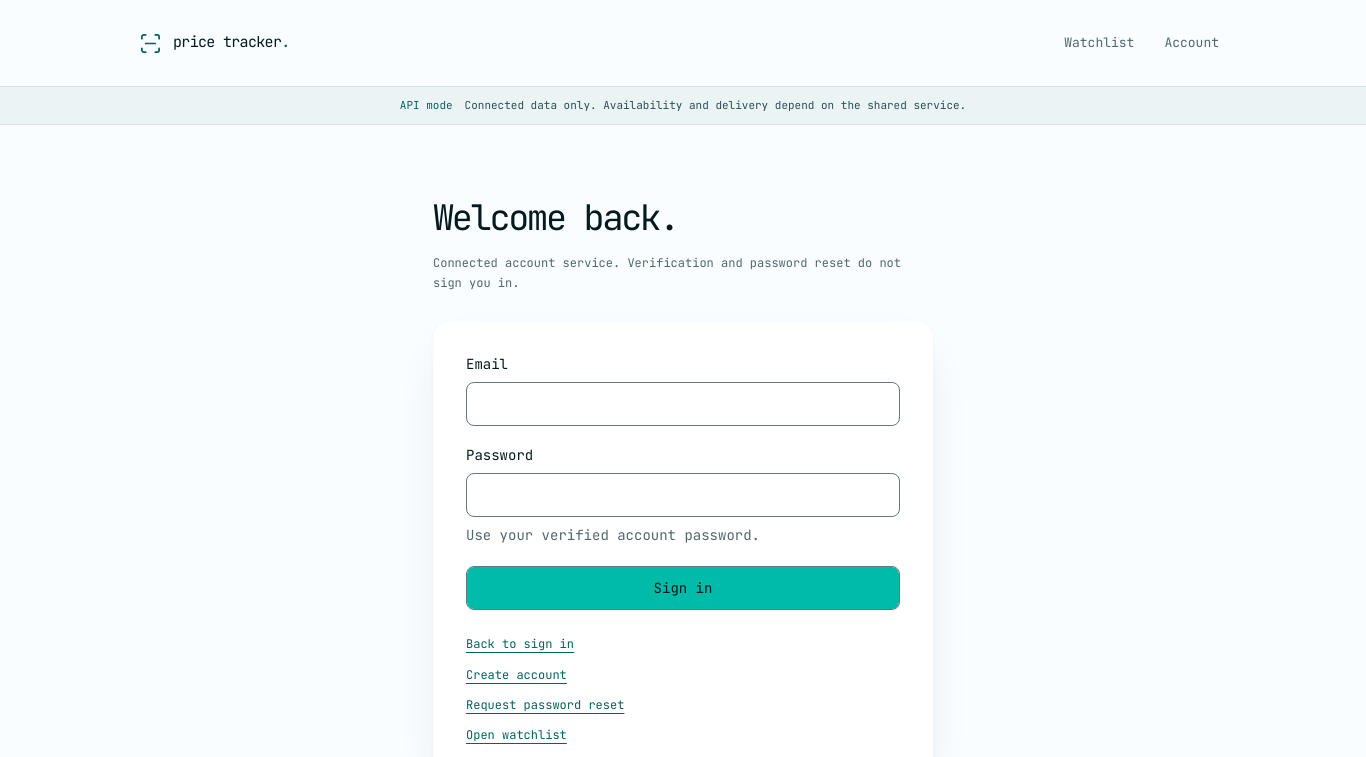
it: real cookie session screens › keeps a confirmed login honest when post-login CSRF bootstrap fails
In the field labelled "Email": (683, 404) [466,382,900,426], type "player@example.com"
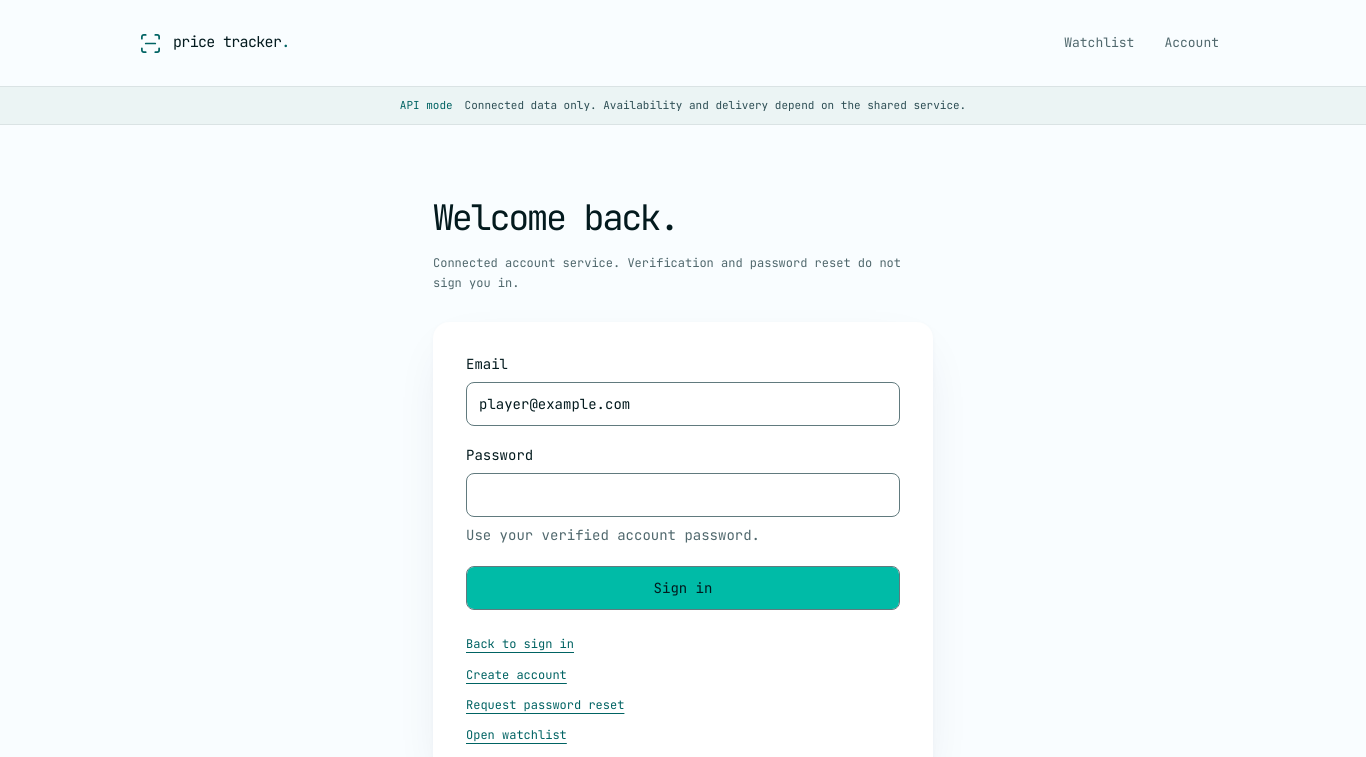
In the password field labelled "Password": (683, 495) [466,473,900,517], type "password"
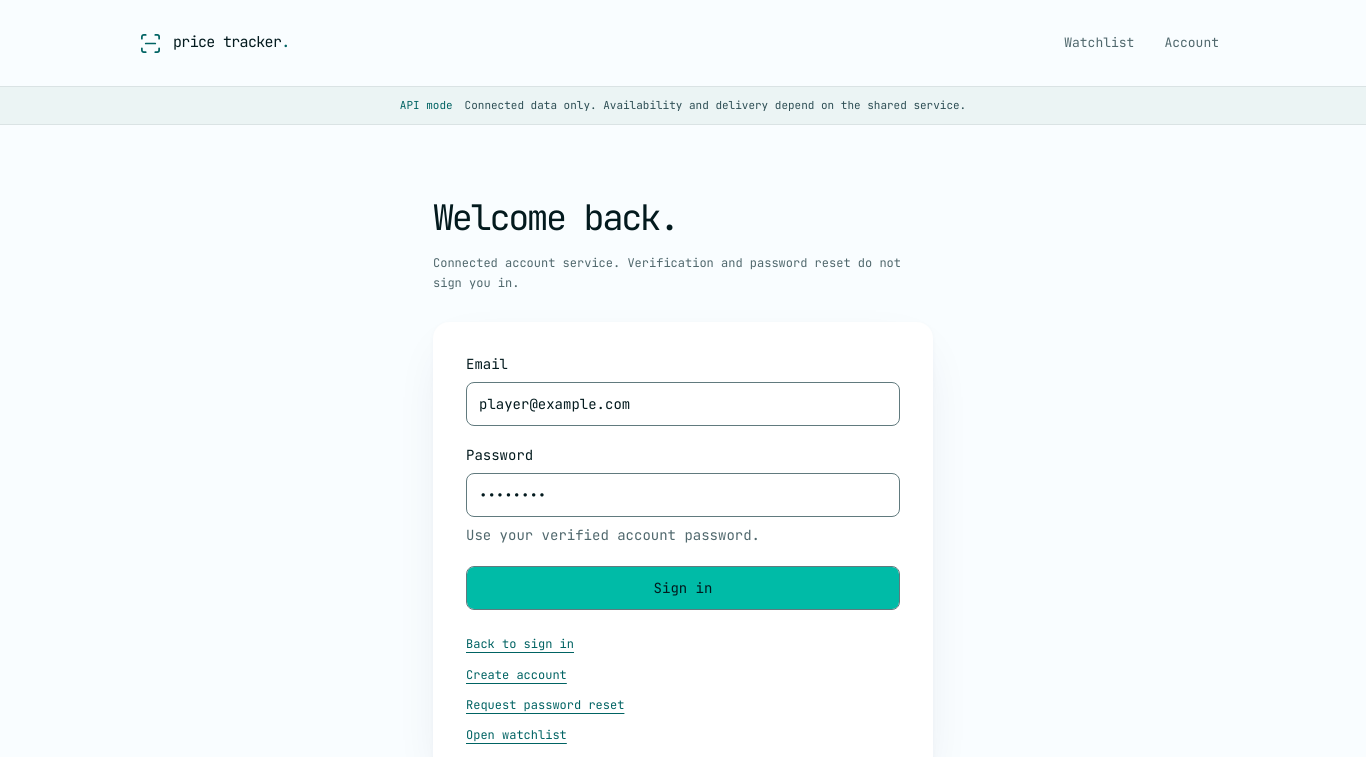
Click the button "Sign in": (683, 588) [466,566,900,610]
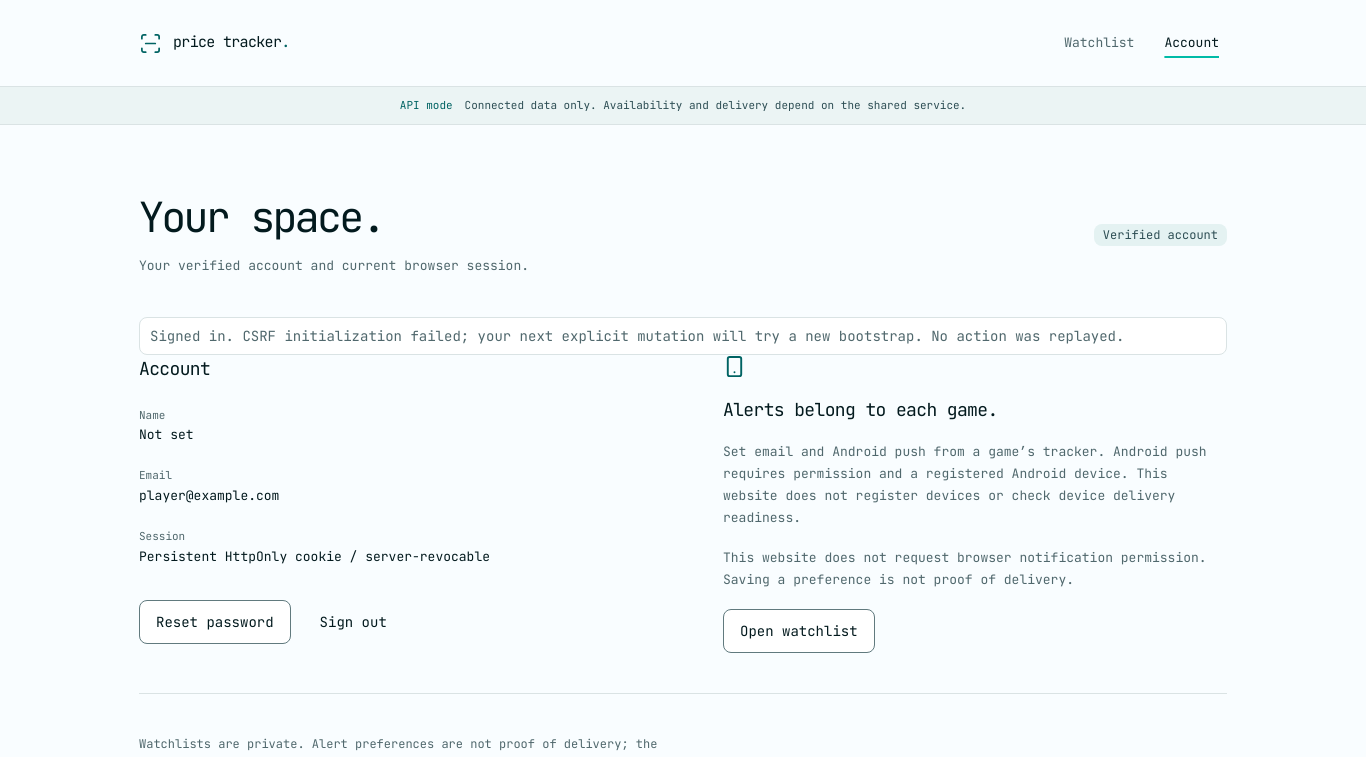
Check: the text "Signed in. CSRF initialization failed" is shown, box [150,327,1124,345]
Check: the text "player@example.com" is shown, box [139,487,279,504]
